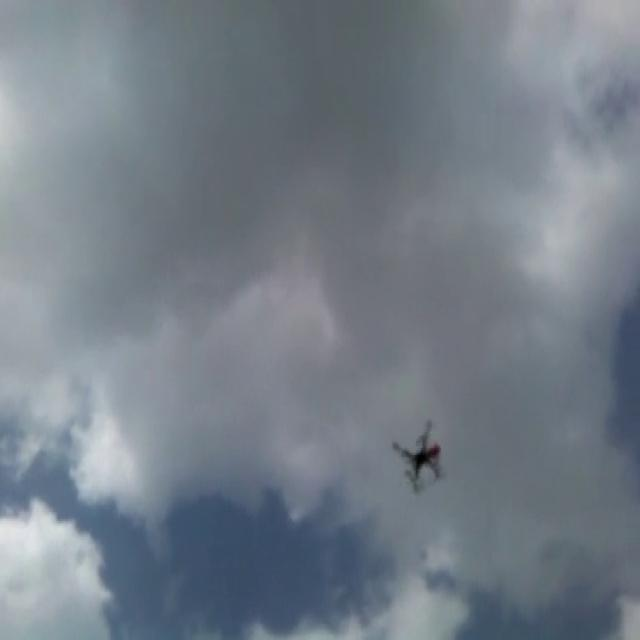drone: (389, 412, 446, 496)
